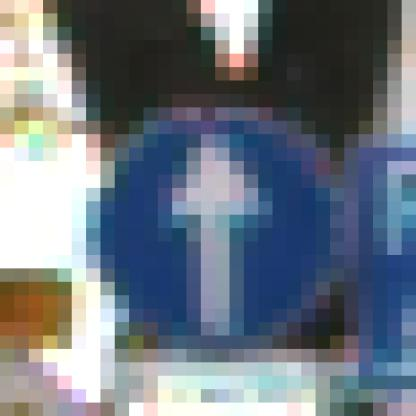AheadOnly: (73, 68, 345, 337)
